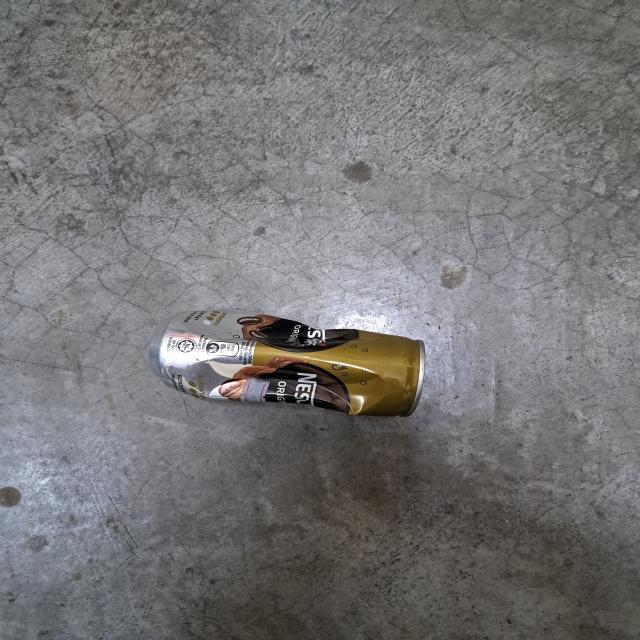can: (157, 310, 426, 417)
